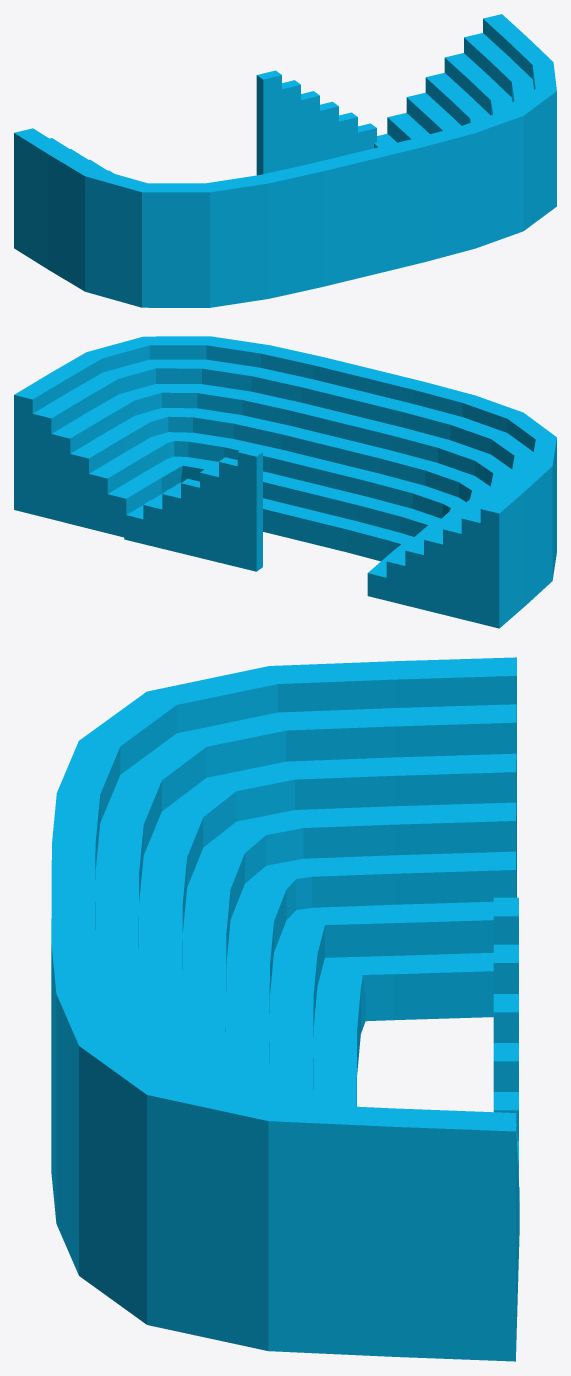
File: Tribune.fbx
3 renders of one model, top to bottom at view 1: azimuth 30°, elevation 25°; view 2: azimuth 150°, elevation 25°; view 3: azimuth 270°, elevation 25°, orthographic. The views are drawn at different scales.
Parts seen in each view (by area): view 1: Cube.045, Cube.029; view 2: Cube.045, Cube.029; view 3: Cube.045, Cube.029.
Part boxes in pixels (box(x1,y1,x2,y2)): Cube.045: box(14, 14, 556, 307); Cube.029: box(256, 70, 376, 175); Cube.045: box(14, 336, 556, 628); Cube.029: box(124, 447, 262, 571); Cube.045: box(51, 657, 519, 1361); Cube.029: box(493, 897, 518, 1171).
Size of the model in its own units: 44.28 by 10.19 by 18.48.
